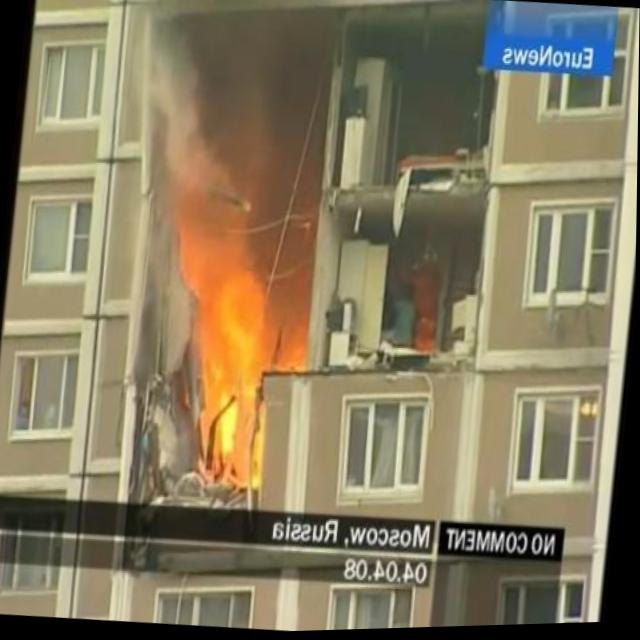fire: (165, 181, 284, 486)
